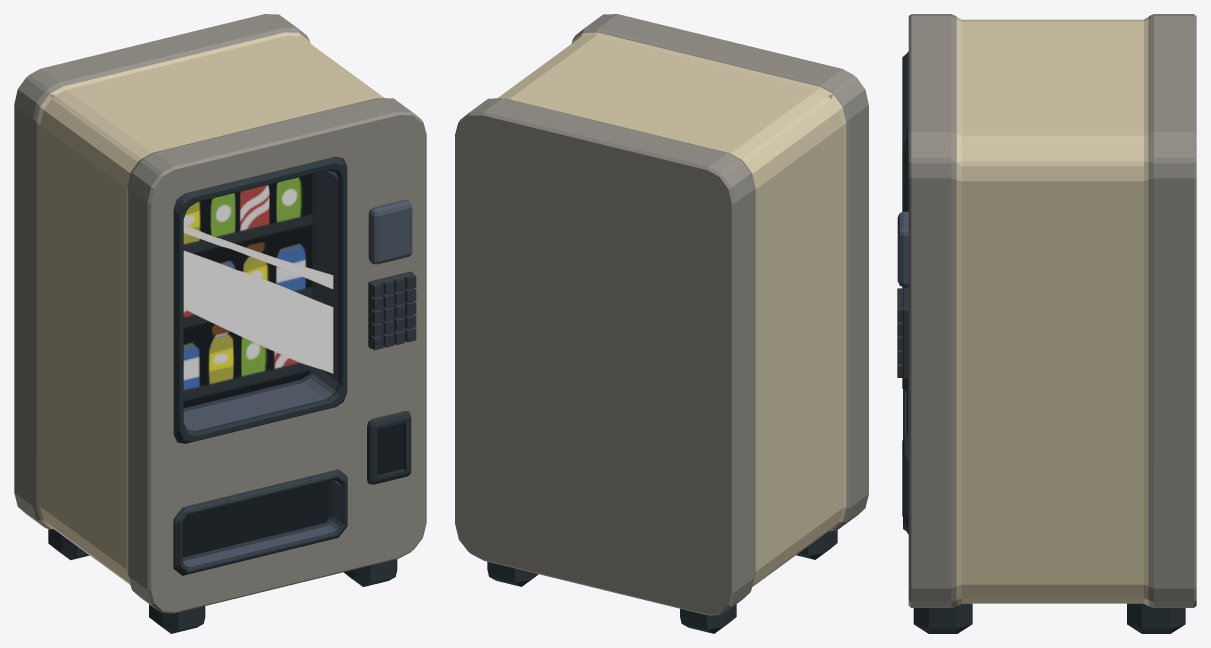
The model's file is 3D_Vending_Machine-White.fbx.
3 renders of one model, left to right at view 1: azimuth 30°, elevation 25°; view 2: azimuth 150°, elevation 25°; view 3: azimuth 270°, elevation 25°, orthographic. The views are drawn at different scales.
Parts seen in each view (by area): view 1: 3D_Vending_Machine-White; view 2: 3D_Vending_Machine-White; view 3: 3D_Vending_Machine-White.
Part boxes in pixels (x1,y1,x2,y2): 3D_Vending_Machine-White: [14, 14, 426, 633]; 3D_Vending_Machine-White: [455, 14, 868, 633]; 3D_Vending_Machine-White: [897, 14, 1196, 633].
Size of the model in its own units: 1.5 by 2.44 by 1.32.
